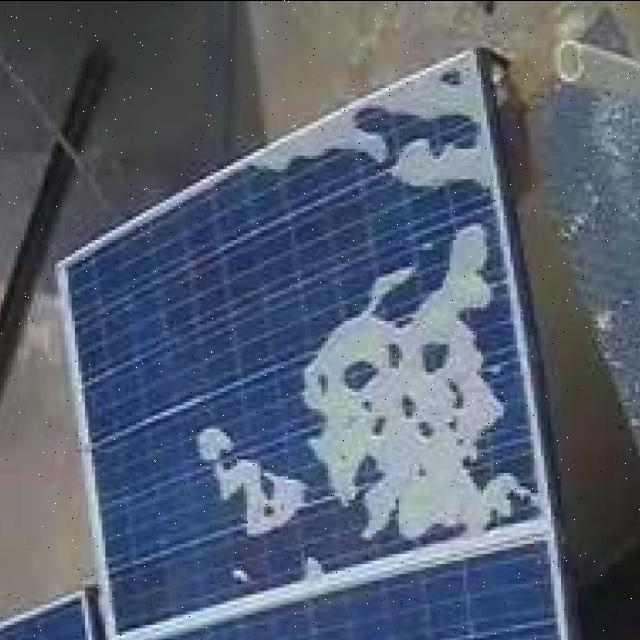Anomaly Solar Panel: (59, 47, 552, 640)
Snow: (292, 209, 541, 564), (240, 50, 492, 190), (188, 417, 327, 583)
